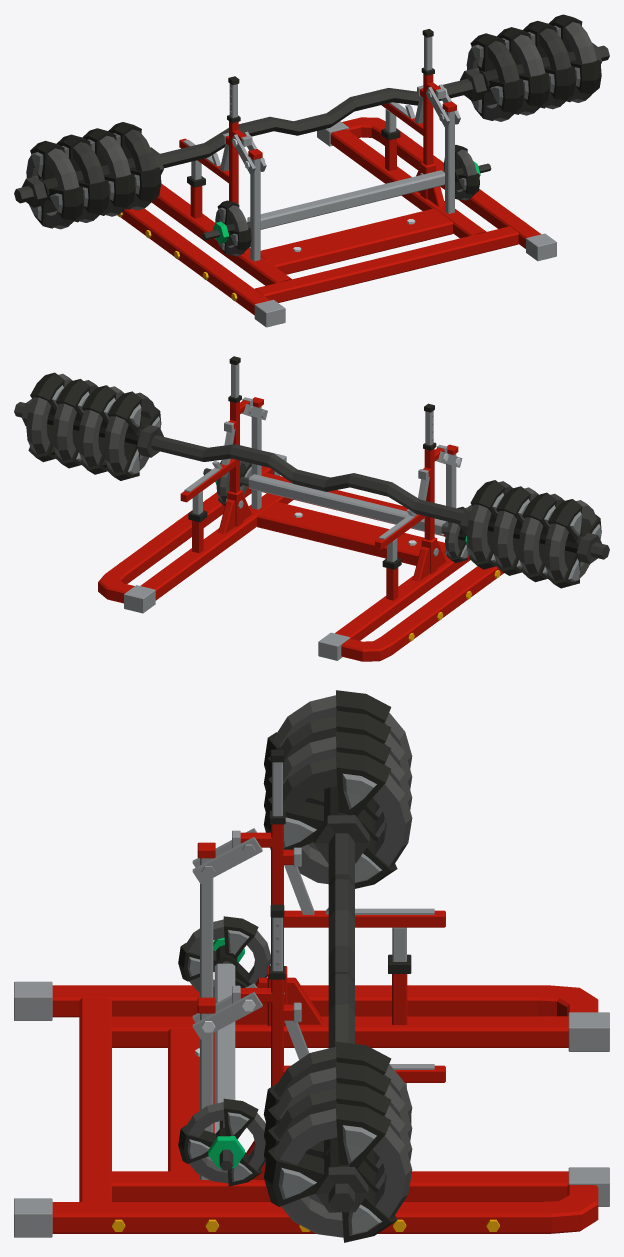
The model's file is hand-machine.fbx.
3 renders of one model, top to bottom at view 1: azimuth 30°, elevation 25°; view 2: azimuth 150°, elevation 25°; view 3: azimuth 270°, elevation 25°, orthographic. The views are drawn at different scales.
Visible parts, largest first — view 1: Cube.002, Dumbblle Stand-3_MaHa LPMW materials_0.004; view 2: Cube.002, Dumbblle Stand-3_MaHa LPMW materials_0.004; view 3: Cube.002, Dumbblle Stand-3_MaHa LPMW materials_0.004.
Part boxes in pixels (<box>): Cube.002: <box>117,29,556,327</box>; Dumbblle Stand-3_MaHa LPMW materials_0.004: <box>14,14,609,229</box>; Cube.002: <box>98,356,503,661</box>; Dumbblle Stand-3_MaHa LPMW materials_0.004: <box>14,372,609,588</box>; Cube.002: <box>14,749,609,1237</box>; Dumbblle Stand-3_MaHa LPMW materials_0.004: <box>263,690,412,1242</box>.
Bounding box in the file's own units: 4.7 × 1.36 × 2.52.
